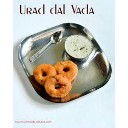vada: (47, 76, 70, 98), (34, 63, 57, 84), (55, 61, 78, 80)
